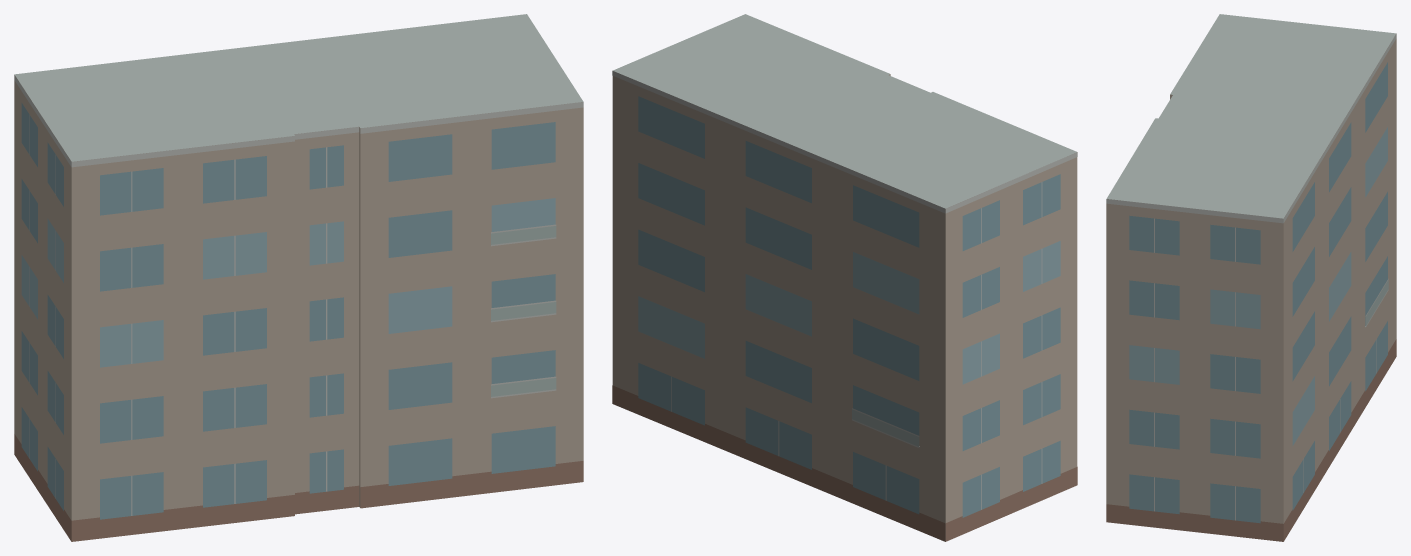
File: survey-upis-32975375.glb
3 views of the same model, side by side, from view 1: azimuth 30°, elevation 25°; view 2: azimuth 150°, elevation 25°; view 3: azimuth 270°, elevation 25° (orthographic). The views are drawn at different scales.
Parts seen in each view (by area): view 1: survey-upis-32975375.tmp; view 2: survey-upis-32975375.tmp; view 3: survey-upis-32975375.tmp.
Part boxes in pixels (x1,y1,x2,y2): survey-upis-32975375.tmp: (14, 14, 583, 541); survey-upis-32975375.tmp: (612, 14, 1077, 541); survey-upis-32975375.tmp: (1106, 14, 1396, 541).
Size of the model in its own units: 22.4 by 16.5 by 13.42.
